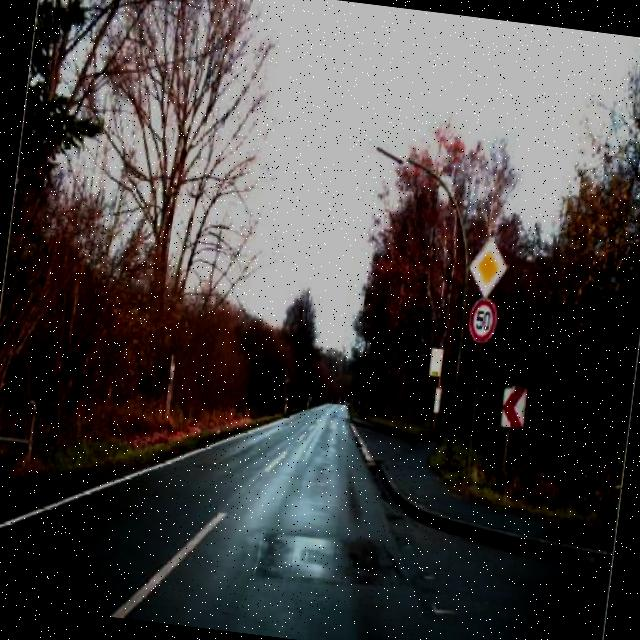Ograniczenie predkosci do 50: (464, 293, 501, 349)
